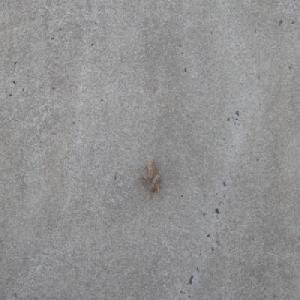Rock: (138, 156, 161, 194)
